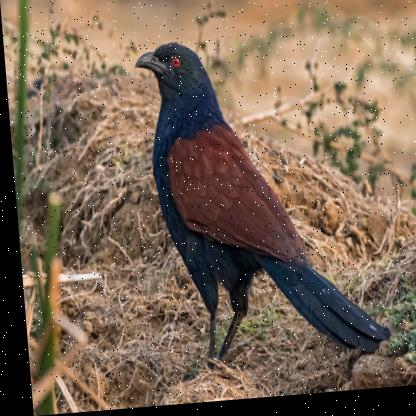Burung: (133, 32, 386, 380)
